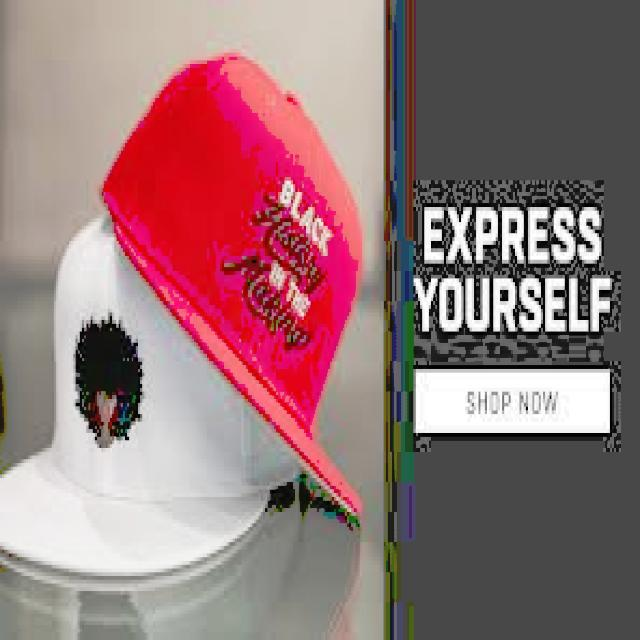TOPI: (95, 42, 366, 520), (0, 196, 287, 572)
